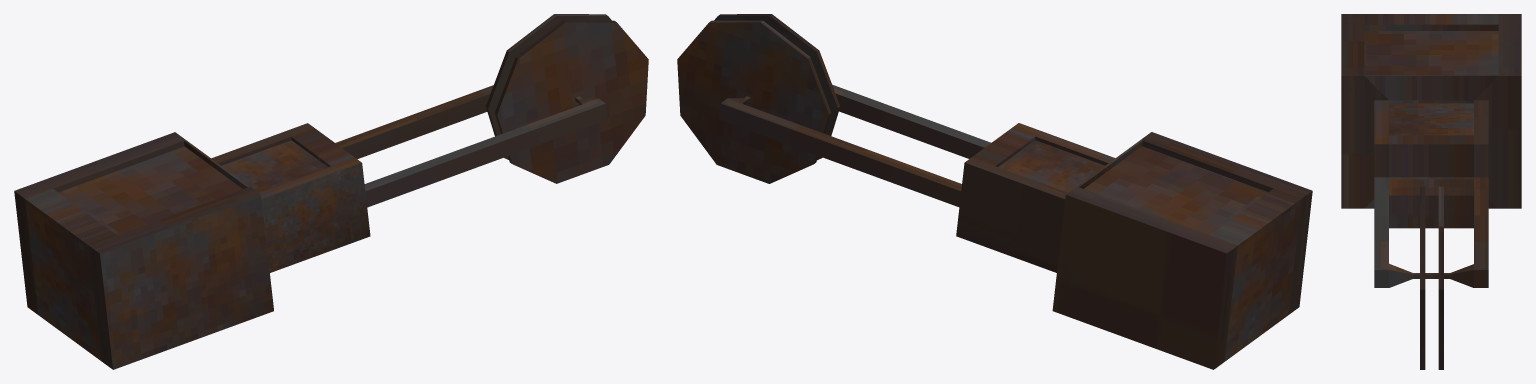
The model's file is saw.fbx.
3 views of the same model, side by side, from view 1: azimuth 30°, elevation 25°; view 2: azimuth 150°, elevation 25°; view 3: azimuth 270°, elevation 25° (orthographic). The views are drawn at different scales.
Parts seen in each view (by area): view 1: Cylinder.003; view 2: Cylinder.003; view 3: Cylinder.003.
Part boxes in pixels (x1,y1,x2,y2): Cylinder.003: (14,14,648,369); Cylinder.003: (677,14,1312,369); Cylinder.003: (1341,14,1521,369).
Bounding box in the file's own units: 1.73 × 0.5655 × 0.4378.
